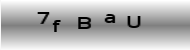7: (36, 11, 49, 25)
B: (77, 16, 93, 30)
U: (126, 15, 142, 30)
a: (104, 13, 117, 24)
f: (52, 19, 61, 34)
